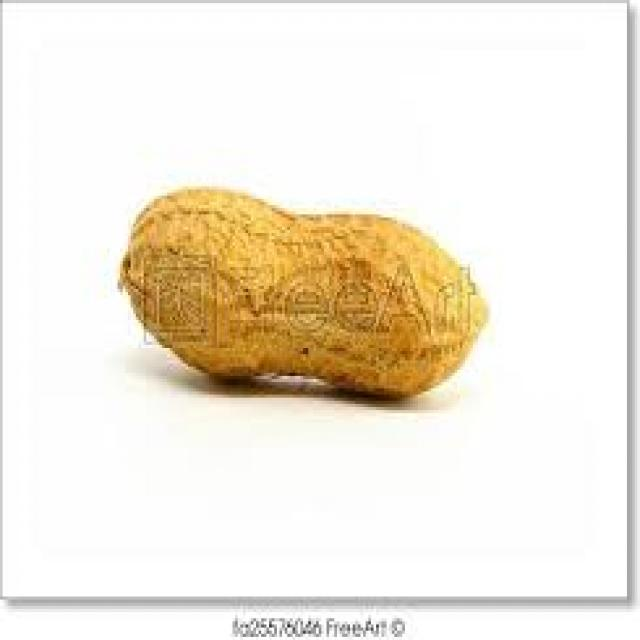organic waste: (117, 183, 486, 398)
